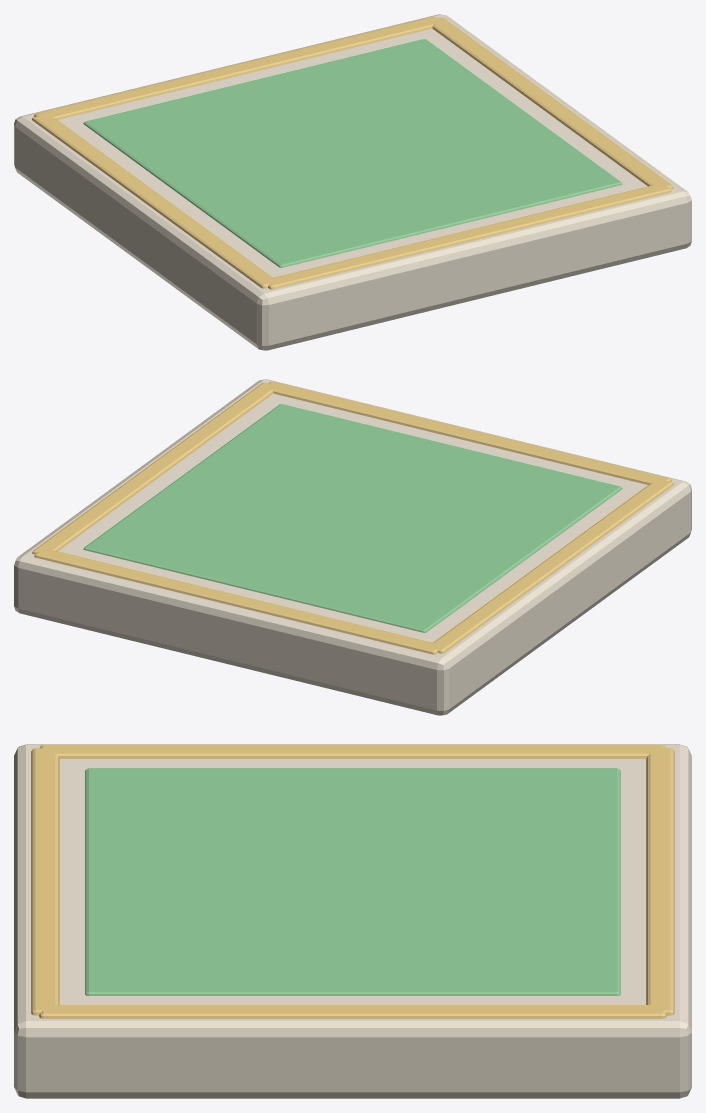
The model's file is mossy_flagstone.glb.
3 renders of one model, top to bottom at view 1: azimuth 30°, elevation 25°; view 2: azimuth 150°, elevation 25°; view 3: azimuth 270°, elevation 25°, orthographic. The views are drawn at different scales.
Parts seen in each view (by area): view 1: TopInlay, Slab, TrimX-1.52; view 2: TopInlay, Slab, TrimX-1.52; view 3: TopInlay, Slab, TrimX-1.52.
Part boxes in pixels (left/top/right/bottom): TopInlay: left=83, top=39, right=622, bottom=267; Slab: left=14, top=14, right=691, bottom=350; TrimX-1.52: left=32, top=17, right=673, bottom=289; TopInlay: left=83, top=404, right=622, bottom=632; Slab: left=14, top=379, right=691, bottom=715; TrimX-1.52: left=32, top=382, right=673, bottom=654; TopInlay: left=85, top=768, right=620, bottom=995; Slab: left=14, top=744, right=691, bottom=1098; TrimX-1.52: left=31, top=745, right=674, bottom=1018.
Size of the model in its own units: 3.35 by 0.44 by 3.35.
